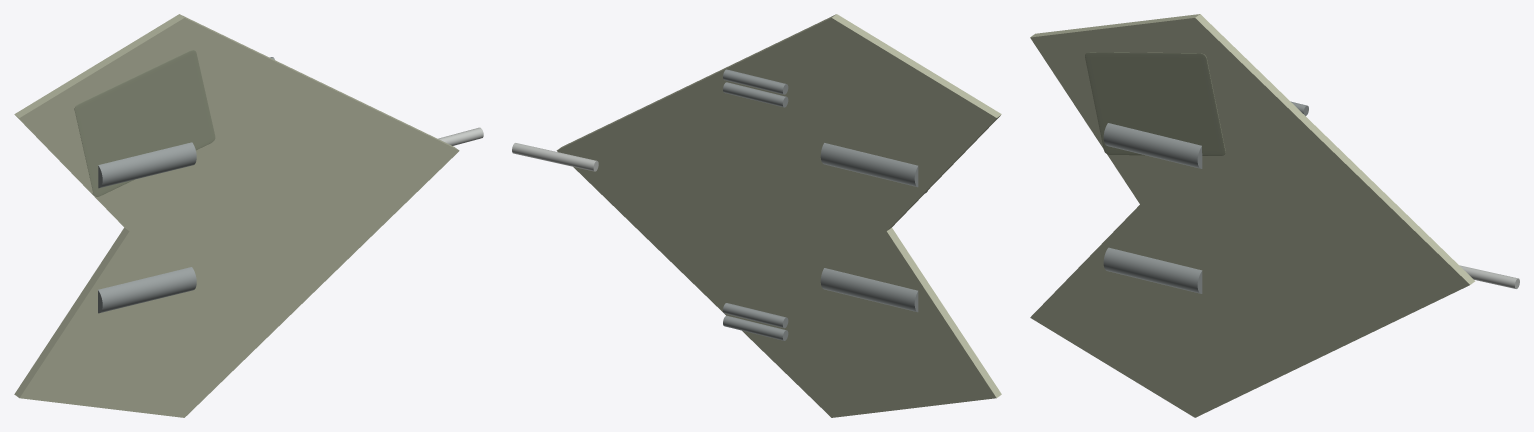
Rendered from v-u29-vanguard-stealth-striker-lod2.glb.
3 views of the same model, side by side, from view 1: azimuth 30°, elevation 25°; view 2: azimuth 150°, elevation 25°; view 3: azimuth 330°, elevation 25° (orthographic).
Parts seen in each view (by area): view 1: flying_wing_planform, flying_wing_elevon_1, flying_wing_engine_0, flying_wing_engine_1, flying_wing_gun_barrel_0; view 2: flying_wing_planform, flying_wing_engine_1, flying_wing_engine_0, flying_wing_gun_barrel_0, flying_wing_1_tube_1, flying_wing_-1_tube_1, flying_wing_-1_tube_2, flying_wing_1_tube_2; view 3: flying_wing_planform, flying_wing_elevon_1, flying_wing_engine_0, flying_wing_engine_1, flying_wing_gun_barrel_0.
Part boxes in pixels (box(x1,y1,x2,y2)): flying_wing_planform: box(14, 14, 459, 417); flying_wing_elevon_1: box(74, 50, 215, 196); flying_wing_engine_0: box(98, 267, 196, 313); flying_wing_engine_1: box(98, 142, 196, 188); flying_wing_gun_barrel_0: box(438, 127, 483, 145); flying_wing_planform: box(556, 14, 1001, 417); flying_wing_engine_1: box(820, 143, 918, 187); flying_wing_engine_0: box(820, 268, 918, 312); flying_wing_gun_barrel_0: box(512, 143, 598, 171); flying_wing_1_tube_1: box(723, 82, 788, 107); flying_wing_-1_tube_1: box(723, 315, 788, 340); flying_wing_-1_tube_2: box(723, 303, 788, 328); flying_wing_1_tube_2: box(723, 69, 788, 94); flying_wing_planform: box(1030, 14, 1475, 417); flying_wing_elevon_1: box(1085, 52, 1225, 155); flying_wing_engine_0: box(1103, 247, 1202, 293); flying_wing_engine_1: box(1103, 123, 1202, 168); flying_wing_gun_barrel_0: box(1459, 265, 1519, 288).
Size of what is drawn, in the model's own units: 14.94 by 12.04 by 1.12.
